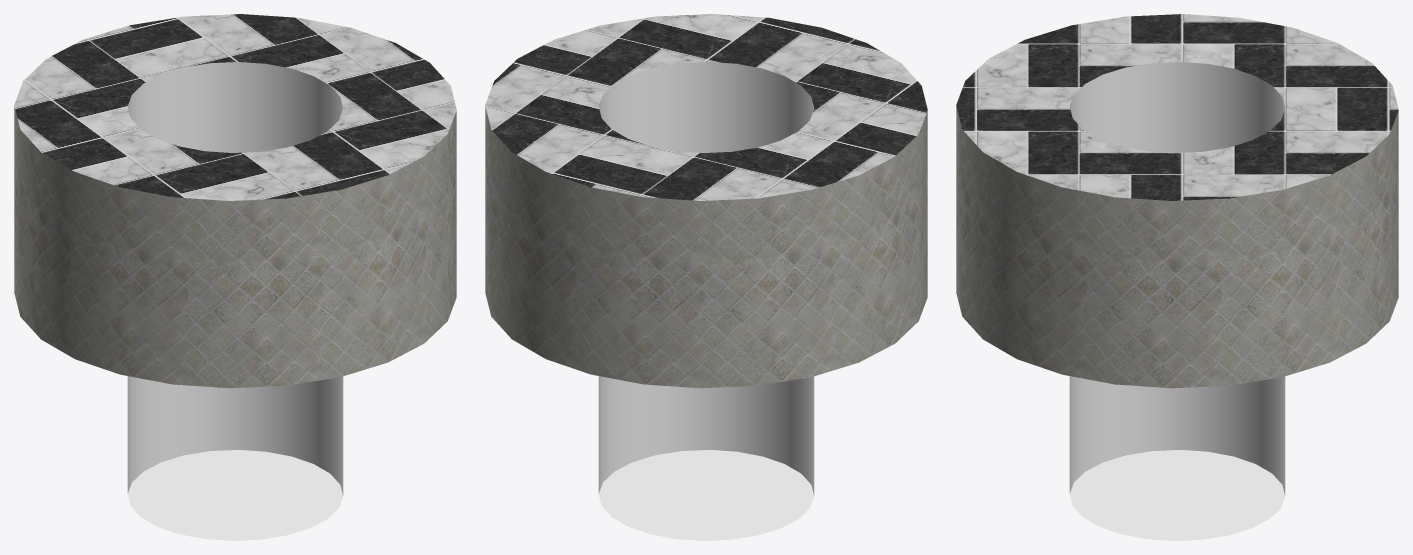
The picture shows the model from 3 angles, left to right: view 1: azimuth 30°, elevation 25°; view 2: azimuth 150°, elevation 25°; view 3: azimuth 270°, elevation 25°; orthographic projection.
Visible parts, largest first — view 1: Mesh1 Model; view 2: Mesh1 Model; view 3: Mesh1 Model.
Boxes of the visible parts, x1,y1,x2,y2 form: Mesh1 Model: (14,14,456,540); Mesh1 Model: (485,14,927,540); Mesh1 Model: (956,14,1398,540).
Bounding box in the file's own units: 1.2 × 1.16 × 1.2.
Materials: 3 (2 with a texture image).
